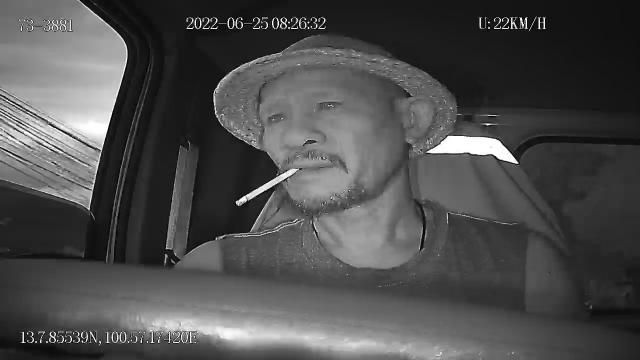SafeDriving: (310, 93, 348, 115), (261, 106, 293, 127)
Smoking: (235, 167, 301, 205)
